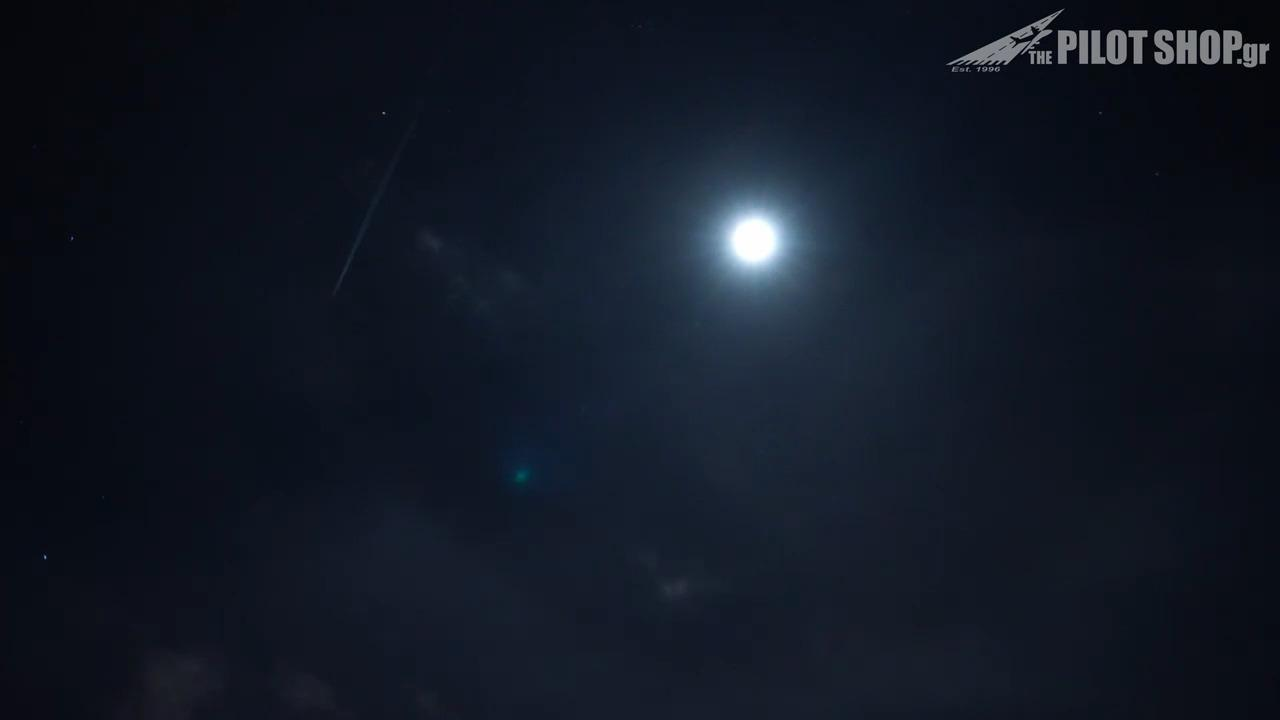Plane: (325, 145, 401, 303)
